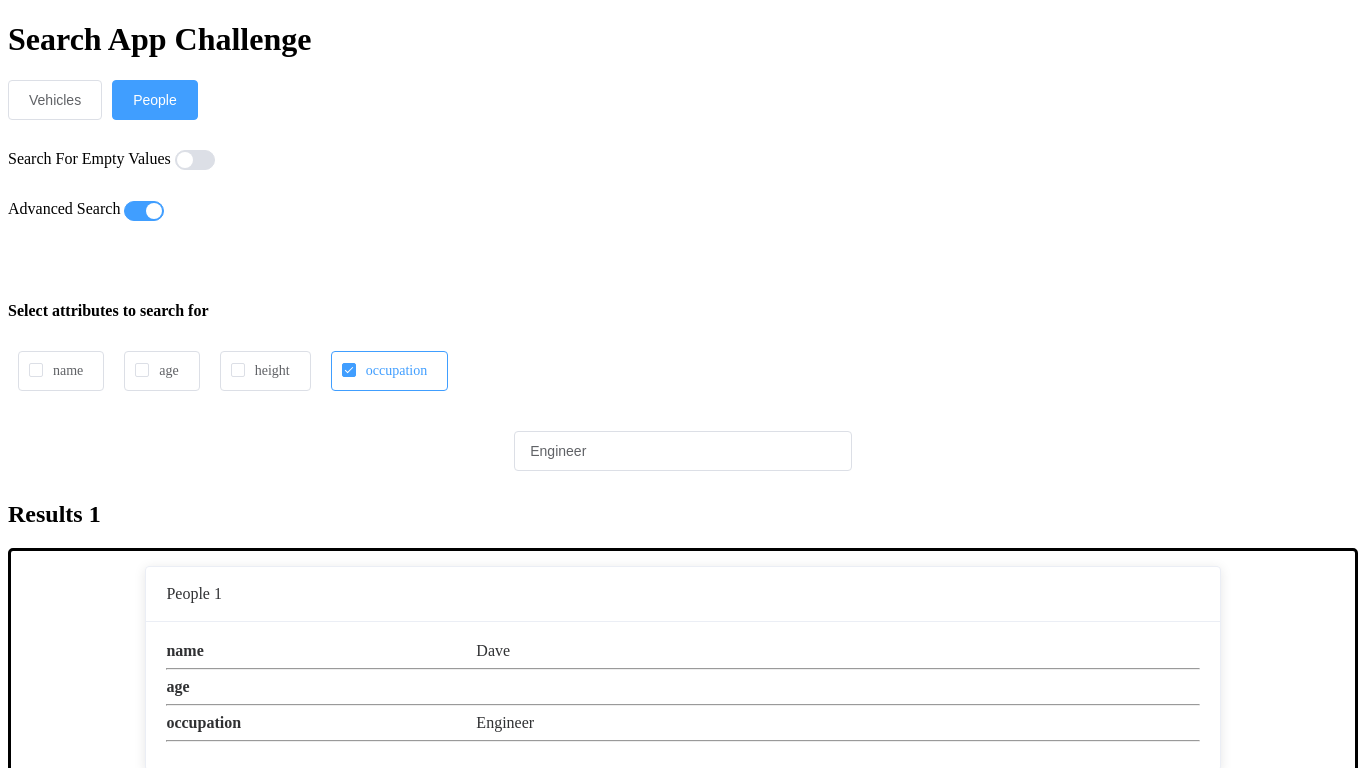
Test: Home.vue Search Related Tests › Correctly searches for null or empty values
The width and height of the screenshot is (1366, 768).
# Select the second switch button, which sets searching on null and empty values to true.
Click the switch next to "Search For Empty Values": (195, 160) [175,150,215,170]
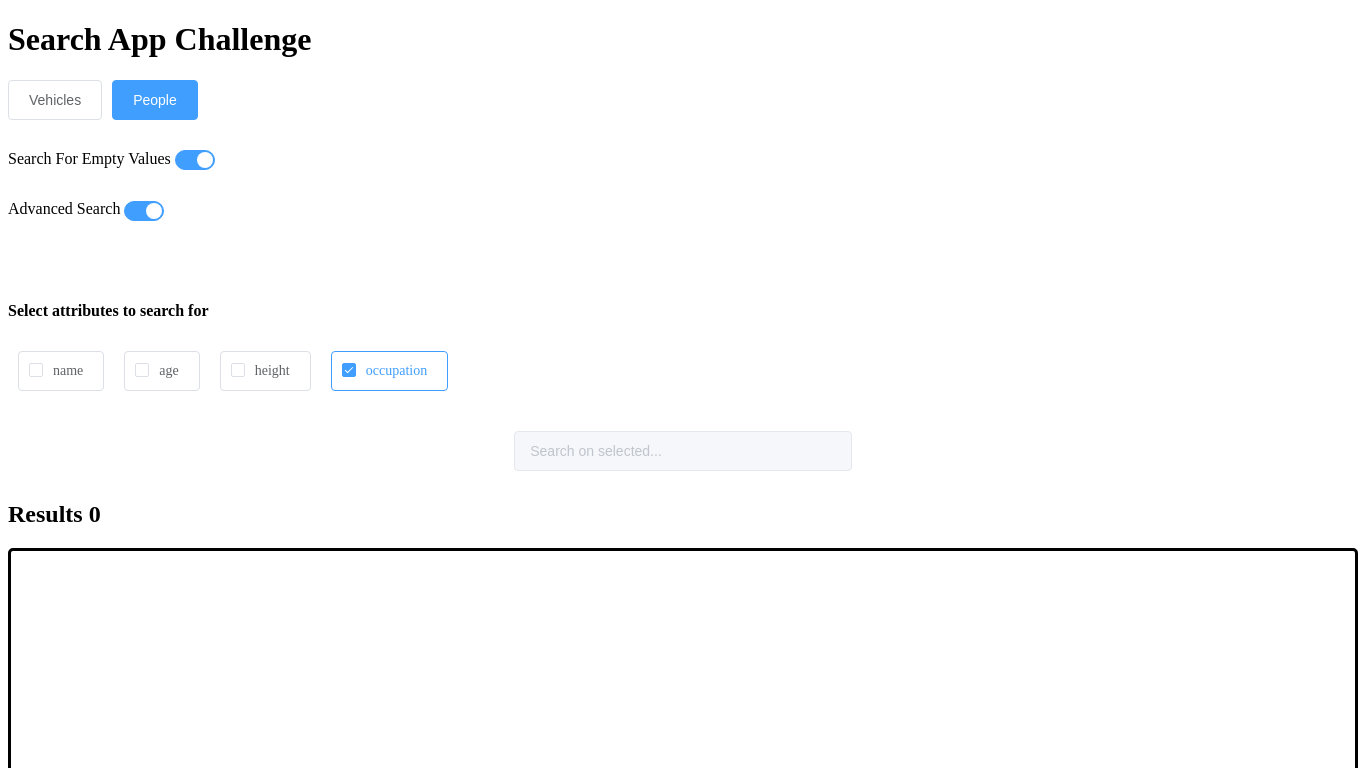
# Select the checkbox with the value 'age'.
Click the checkbox labelled "age": (162, 371) [124,351,200,391]
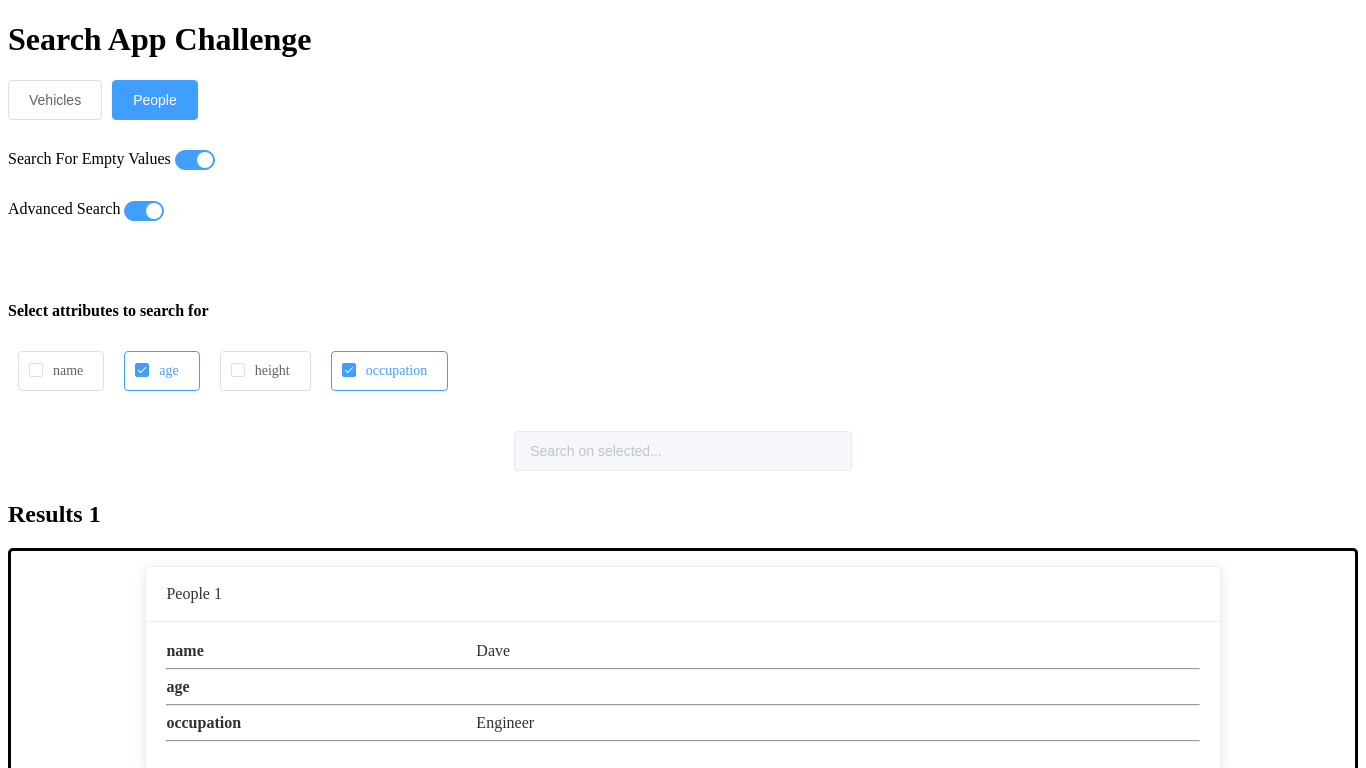
Now the text "Dave" is shown, box [476,642,510,659]
